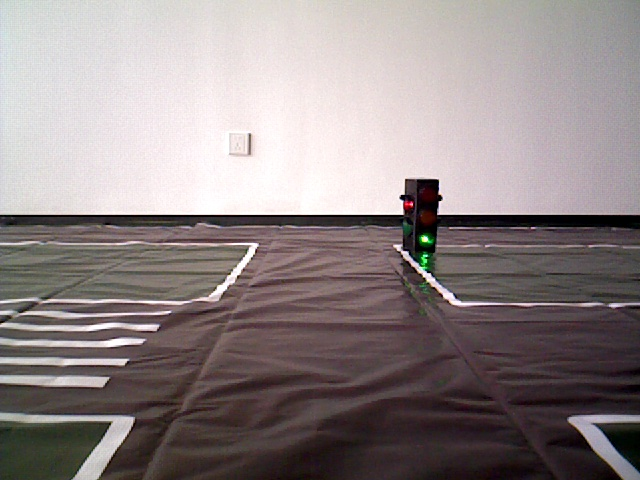green: (405, 177, 433, 249)
